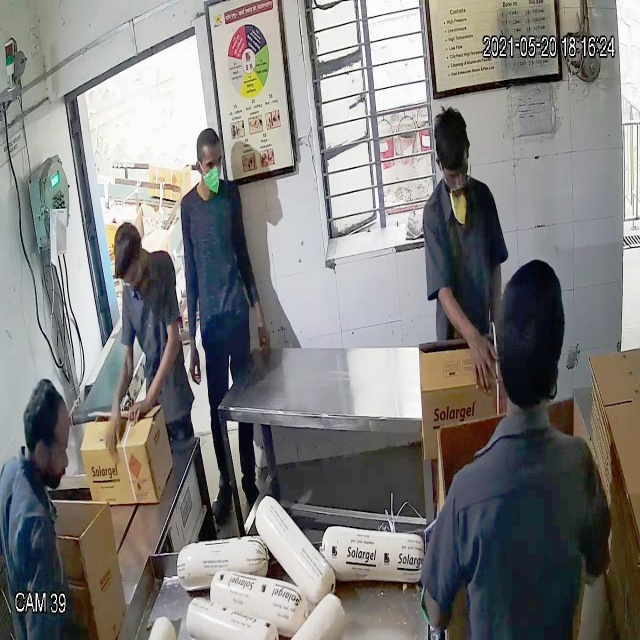Gafas: (437, 148, 480, 192)
